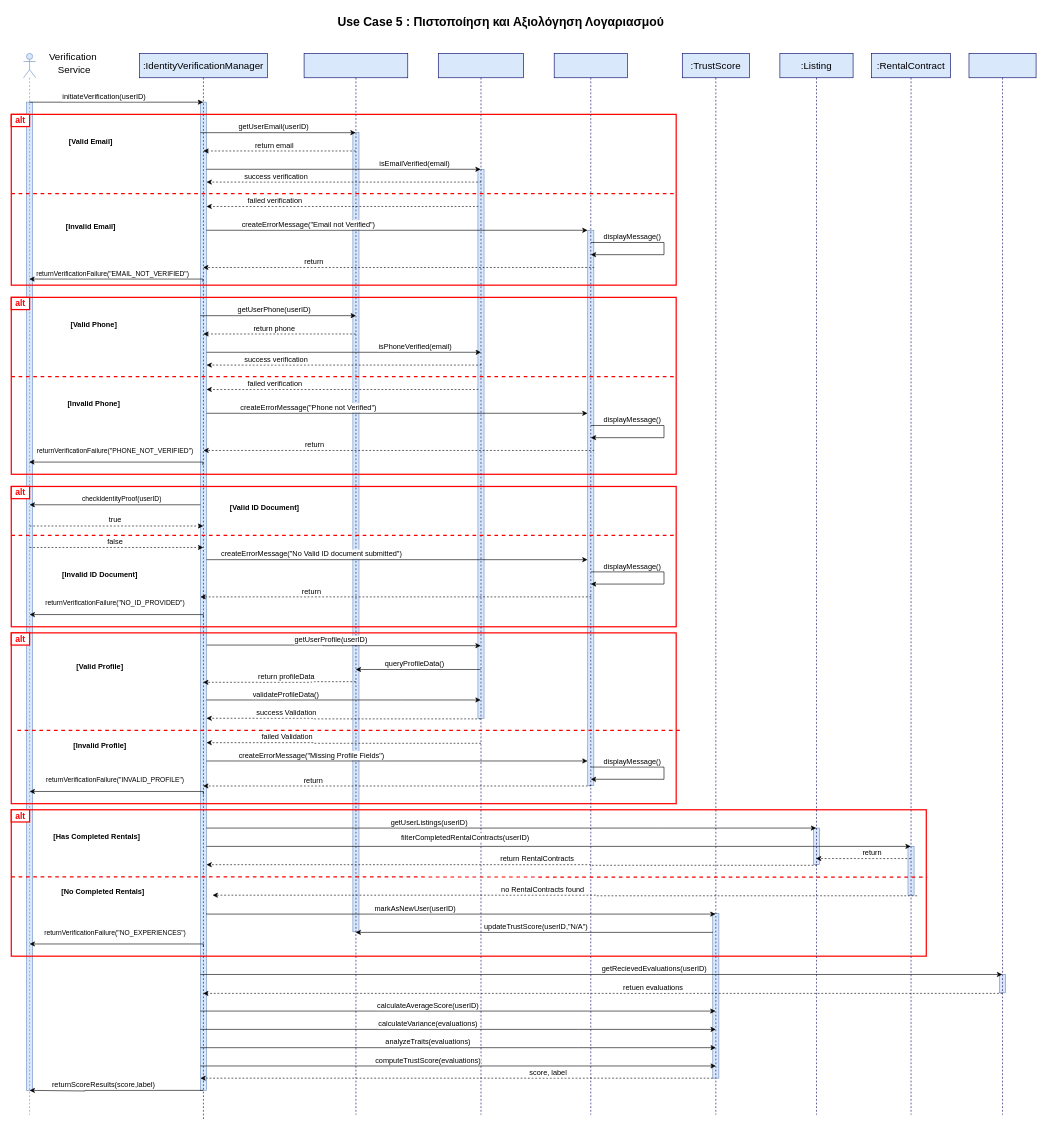
This 1047x1132 diagram has some shape labels left out. The shapes that lost their labels are listed below. From the top down, each one's box as (x1, y1, x2, y2) in pixels, then its label:
(303, 53, 408, 1115): :ManageDB
(438, 53, 524, 1115): :UserProfile
(554, 53, 627, 1115): :Message
(968, 53, 1036, 1115): :Evaluation
